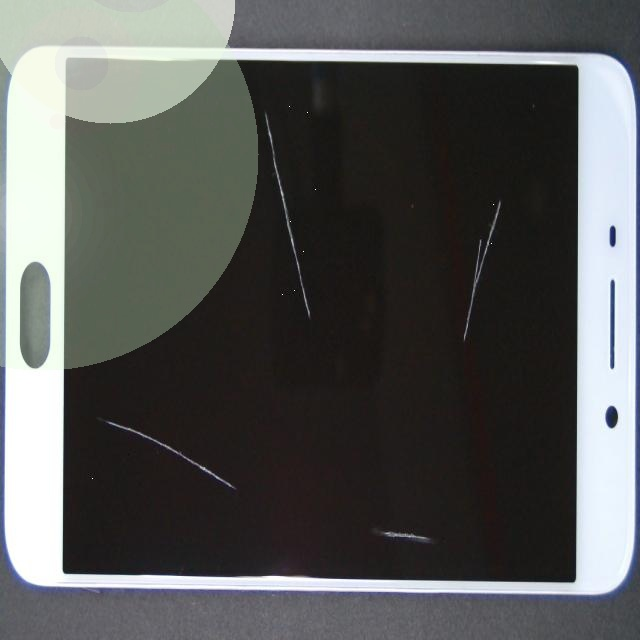scratch: (226, 181, 640, 544), (164, 278, 576, 640), (61, 177, 146, 609), (124, 49, 373, 148)
